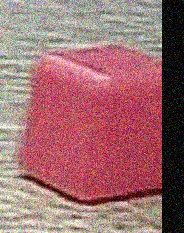red_cube: (9, 38, 184, 208)
